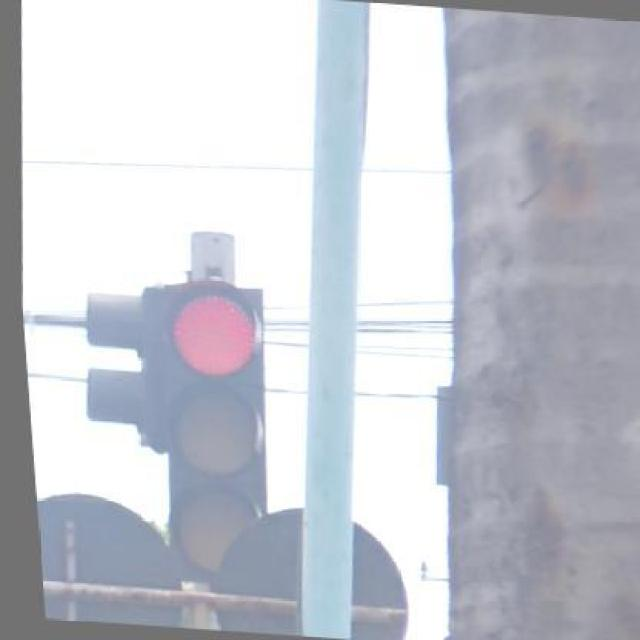Traffic Light -Red-: (149, 271, 274, 586)
